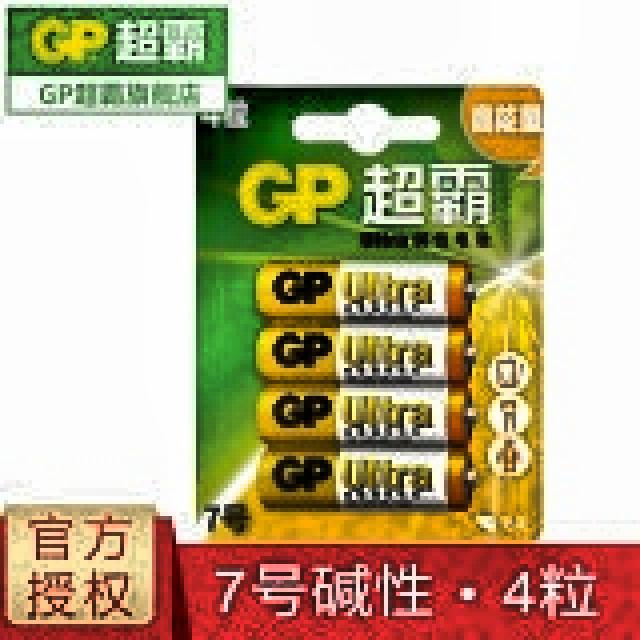Non-Valuable Waste - Batteries: (256, 261, 469, 508)
